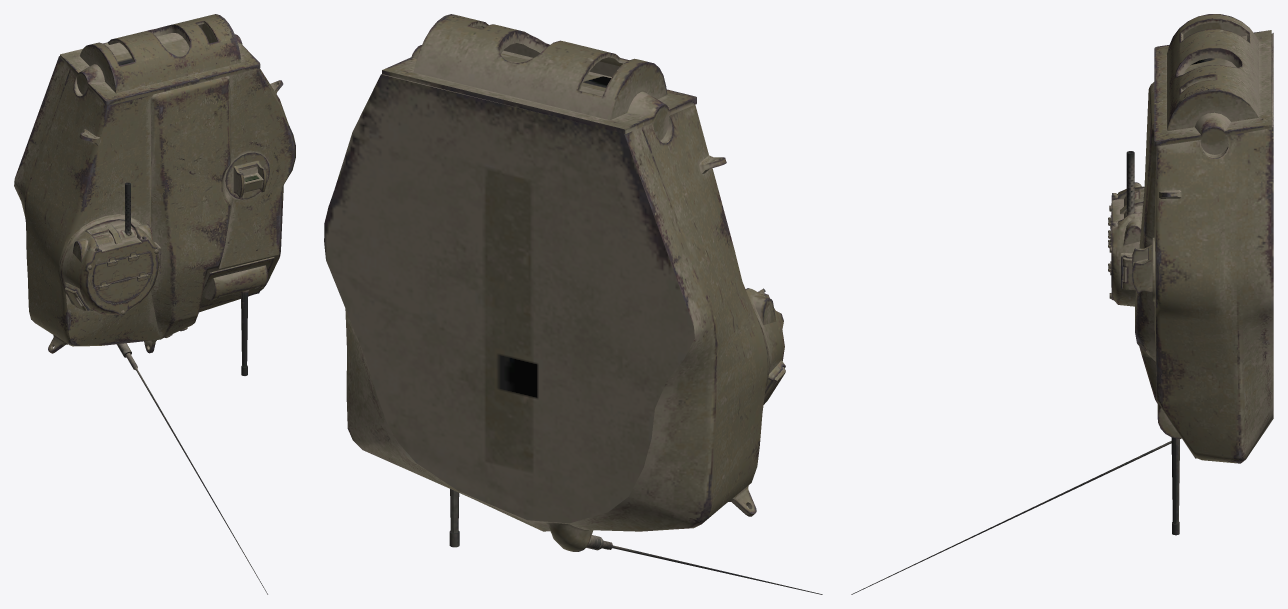
Rendered from Turret_01.glb.
3 views of the same model, side by side, from view 1: azimuth 30°, elevation 25°; view 2: azimuth 150°, elevation 25°; view 3: azimuth 270°, elevation 25° (orthographic). The views are drawn at different scales.
Parts seen in each view (by area): view 1: set_0_group_0; view 2: set_0_group_0; view 3: set_0_group_0.
Part boxes in pixels (x1,y1,x2,y2): set_0_group_0: (14,14,295,594); set_0_group_0: (324,14,822,594); set_0_group_0: (851,14,1273,594).
Size of the model in its own units: 2.08 by 3.7 by 2.5.
Materials: 1 (1 with a texture image).
